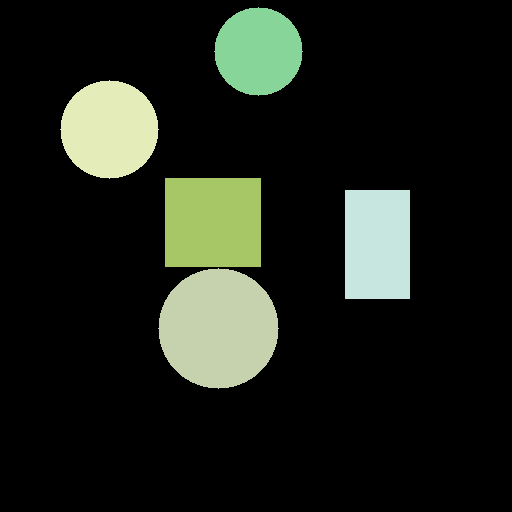circle: (158, 268, 278, 388), (60, 80, 158, 178), (214, 7, 302, 95)
rectangle: (345, 190, 409, 298)
square: (165, 178, 260, 266)
